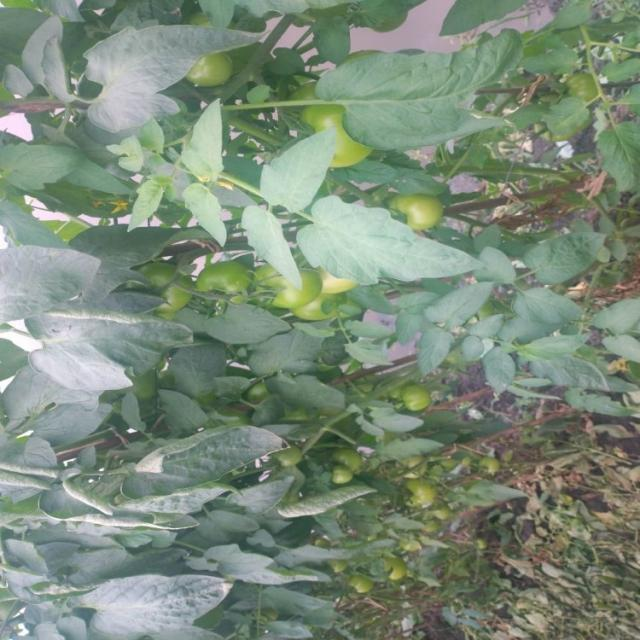tomato: (298, 92, 387, 178), (378, 183, 443, 242), (189, 258, 247, 314), (254, 253, 310, 309), (186, 24, 236, 84), (145, 256, 189, 314), (298, 263, 336, 329), (396, 376, 437, 428), (558, 69, 602, 109), (318, 447, 359, 484), (376, 550, 409, 590), (474, 446, 501, 489), (344, 569, 371, 606), (400, 479, 432, 504)
